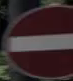No entry: (10, 7, 70, 70)
